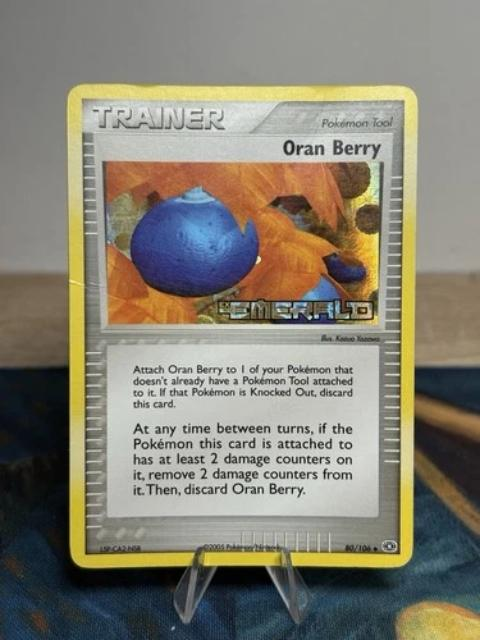Card: (63, 79, 421, 575)
Name: (277, 136, 387, 164)
